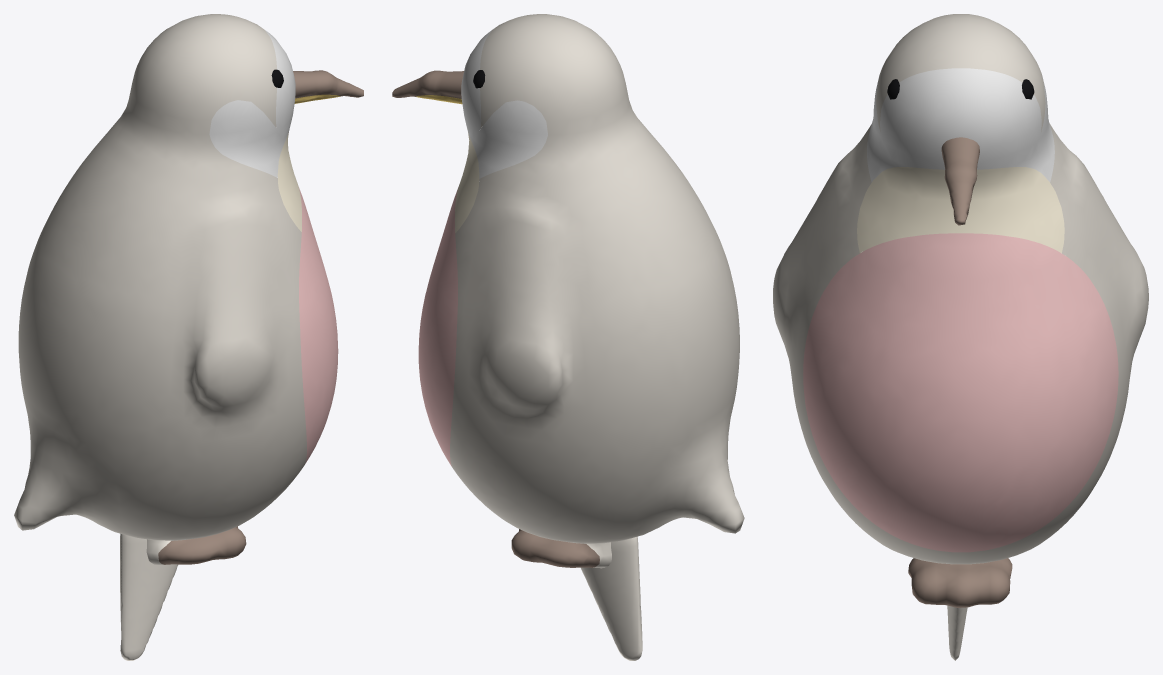
Rendered from penguin_adult.glb.
The picture shows the model from 3 angles, left to right: view 1: azimuth 30°, elevation 25°; view 2: azimuth 150°, elevation 25°; view 3: azimuth 270°, elevation 25°; orthographic projection. The views are drawn at different scales.
Parts seen in each view (by area): view 1: body, wing, leg, beak; view 2: body, wing, leg, beak; view 3: body, leg, beak, wing.
Boxes of the visible parts, bbox=[...] form: body: bbox=[14, 14, 338, 540]; wing: bbox=[120, 533, 177, 660]; leg: bbox=[146, 526, 246, 564]; beak: bbox=[293, 70, 363, 103]; body: bbox=[418, 14, 744, 543]; wing: bbox=[581, 536, 642, 660]; leg: bbox=[511, 529, 611, 568]; beak: bbox=[392, 70, 463, 104]; body: bbox=[773, 14, 1148, 564]; leg: bbox=[908, 558, 1012, 607]; beak: bbox=[941, 137, 979, 225]; wing: bbox=[947, 605, 967, 660].
Bounding box in the file's own units: 1.51 × 2.59 × 1.3.
